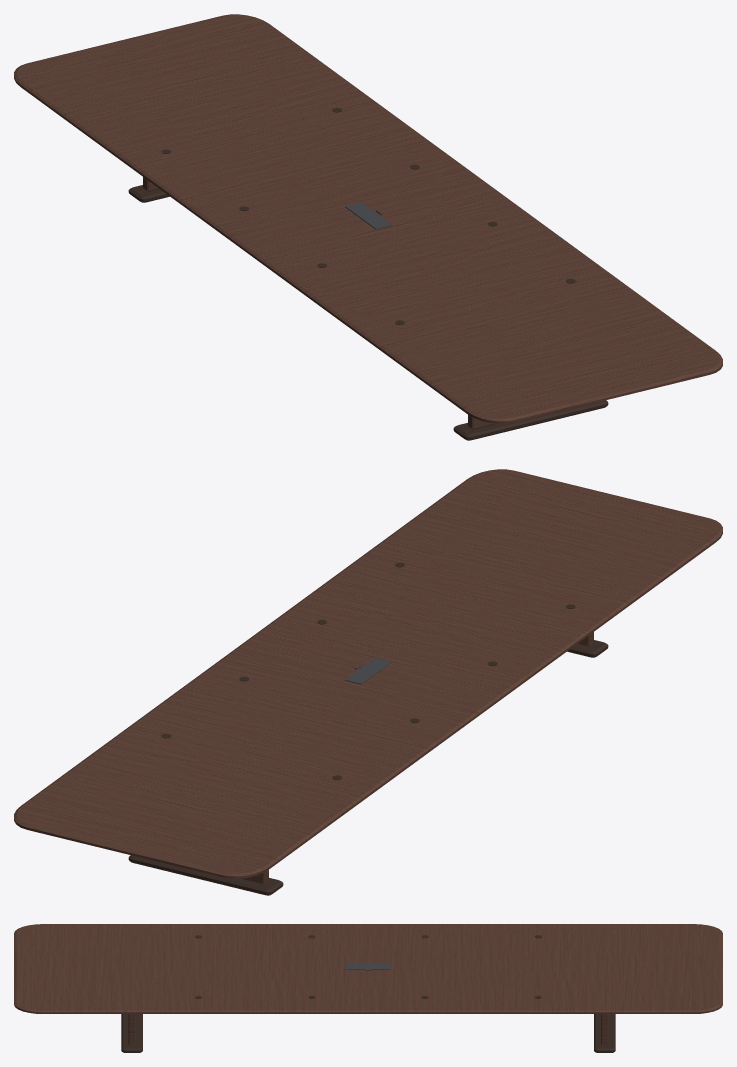
Rendered from situation-table.glb.
The picture shows the model from 3 angles, top to bottom: view 1: azimuth 30°, elevation 25°; view 2: azimuth 150°, elevation 25°; view 3: azimuth 270°, elevation 25°; orthographic projection. The views are drawn at different scales.
Parts seen in each view (by area): view 1: boardroom-table-12_0, boardroom-table-12_1; view 2: boardroom-table-12_0, boardroom-table-12_1; view 3: boardroom-table-12_0, boardroom-table-12_1, boardroom-table-12_2, boardroom-table-12_3.
Boxes of the visible parts, x1=… form: boardroom-table-12_0: x1=14, y1=14, x2=722, y2=423; boardroom-table-12_1: x1=128, y1=107, x2=608, y2=440; boardroom-table-12_0: x1=14, y1=469, x2=722, y2=878; boardroom-table-12_1: x1=128, y1=562, x2=608, y2=895; boardroom-table-12_0: x1=14, y1=924, x2=722, y2=1013; boardroom-table-12_1: x1=121, y1=935, x2=615, y2=1052; boardroom-table-12_2: x1=128, y1=1014, x2=608, y2=1044; boardroom-table-12_3: x1=346, y1=963, x2=390, y2=970.
Size of the model in its own units: 2.3 by 0.7601 by 7.8.
Materials: 4 (1 with a texture image).
